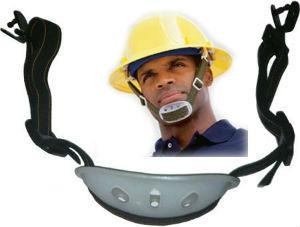helmet: (109, 14, 235, 95)
